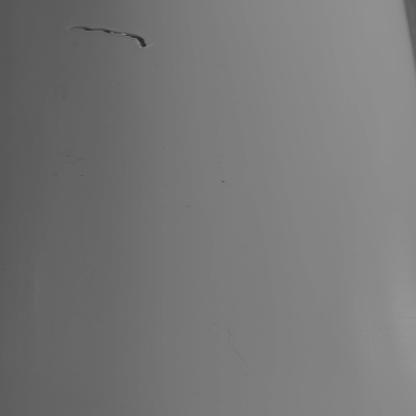fengxi: (70, 27, 150, 49)
